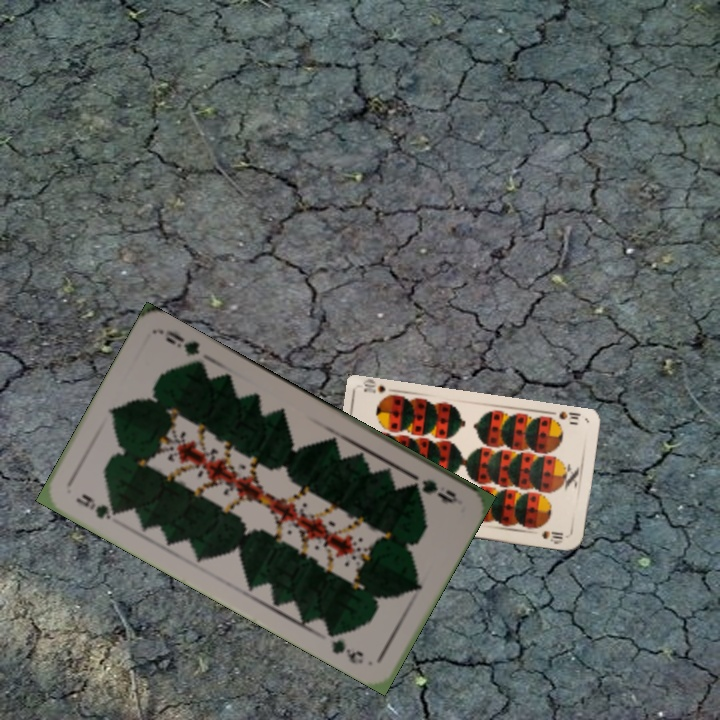G9: (407, 470, 462, 507), (71, 489, 124, 523)
S10: (555, 407, 583, 422)
